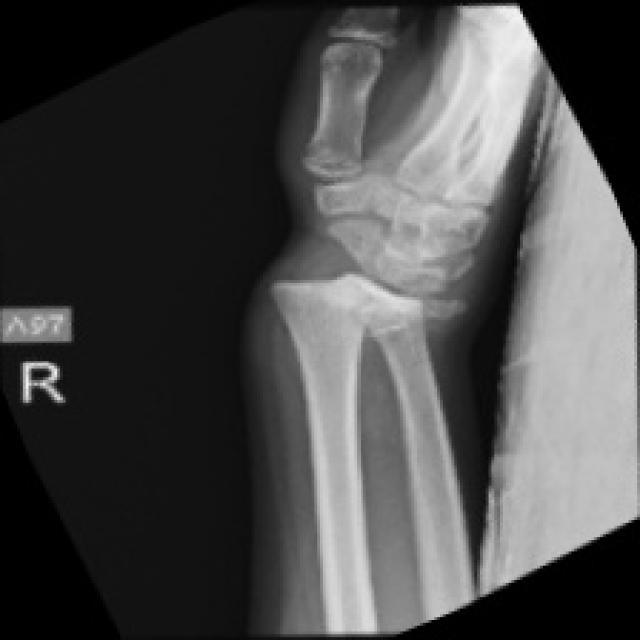fracture: (209, 133, 412, 357)
